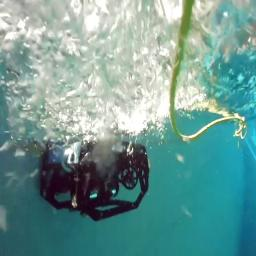front: (39, 139, 149, 221)
